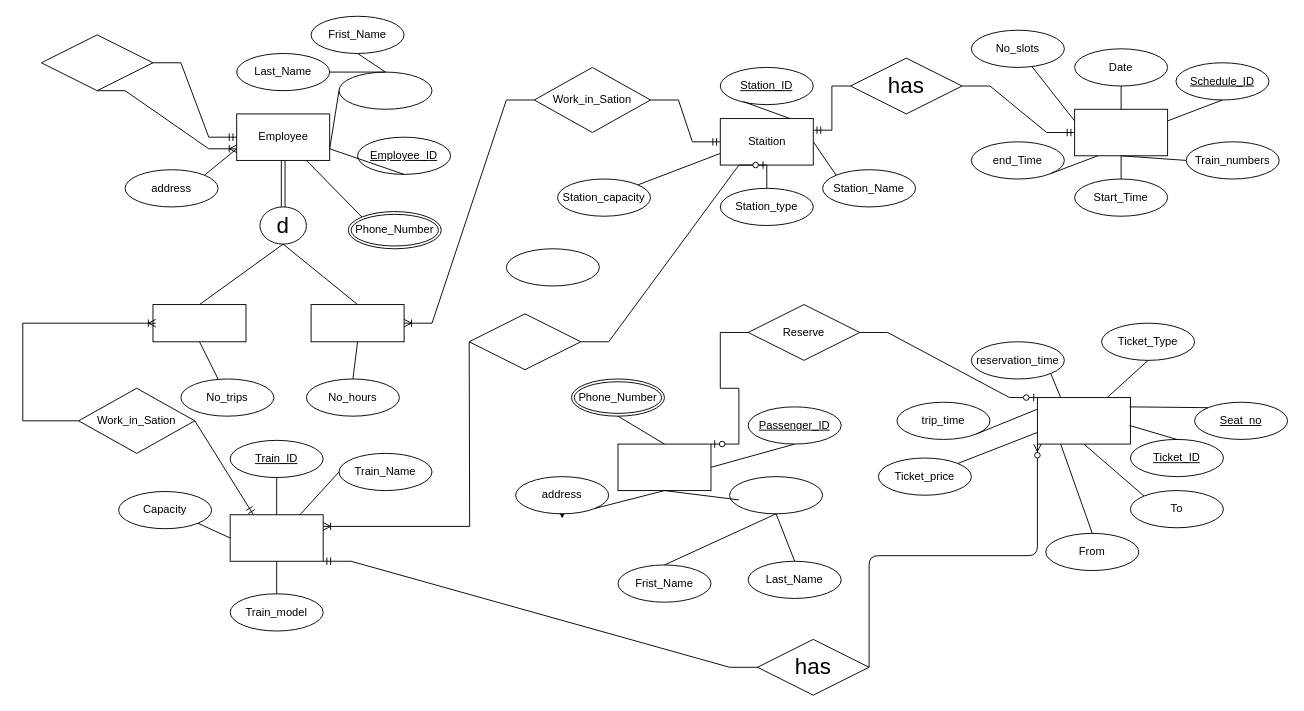
Image size: 1304x711. Some labels were removed from this diagram. The centre of each missing label's shape, as x and y in pixels:
"Attribute" goes at (552,267).
"Employee _Name" goes at (385,90).
"Pass" goes at (524,341).
"Passenger" goes at (664,467).
"Passenger _Name" goes at (776,495).
"schedule" goes at (1121,132).
"Station_employee" goes at (357,323).
"supervise" goes at (96,62).
"Ticket" goes at (1083,420).
"Train" goes at (276,537).
"Train_employee" goes at (199,323).
